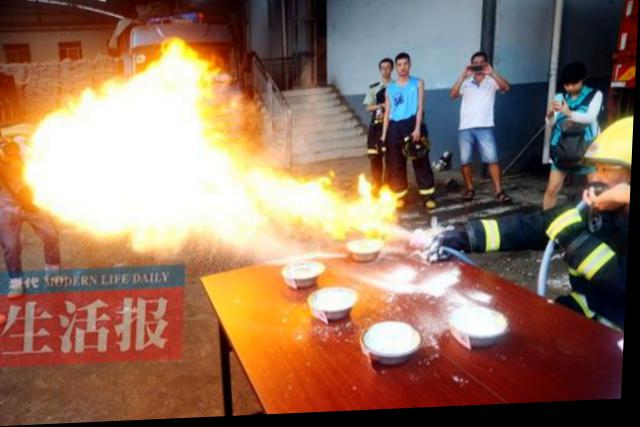fire: (27, 96, 213, 241), (113, 42, 212, 102), (209, 157, 270, 248), (268, 176, 339, 231), (338, 187, 394, 238)
